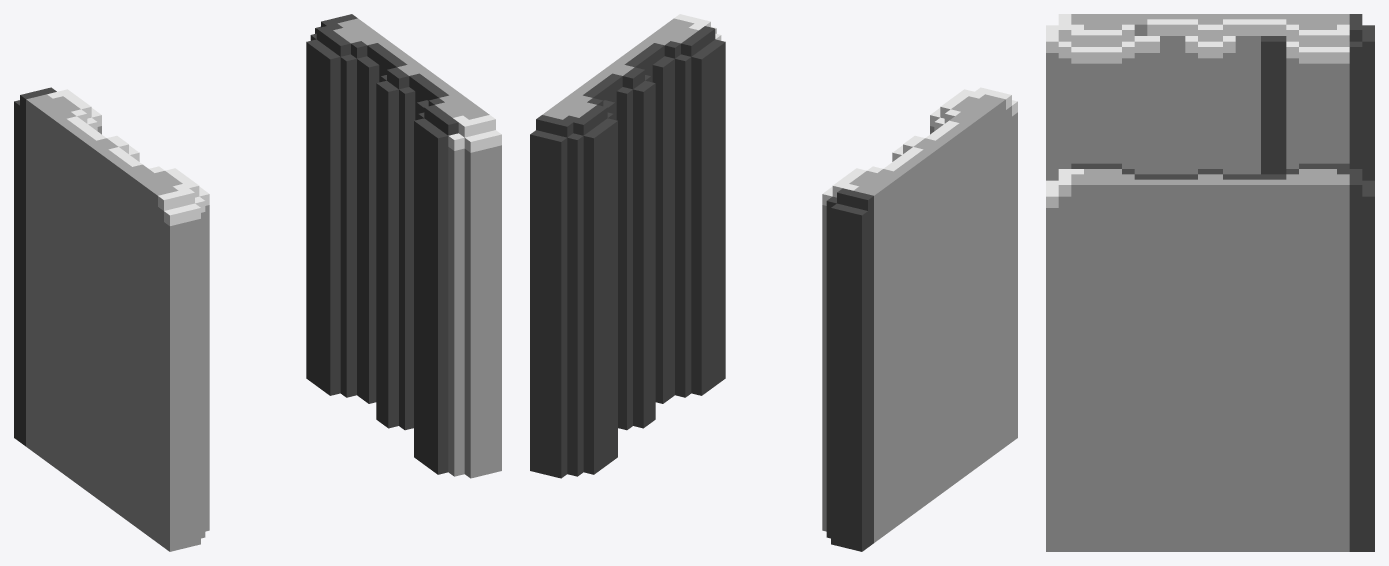
The model's file is GateOutline.obj.
3 renders of one model, left to right at view 1: azimuth 30°, elevation 25°; view 2: azimuth 150°, elevation 25°; view 3: azimuth 270°, elevation 25°, orthographic. The views are drawn at different scales.
Bounding box in the file's own units: 32 × 32 × 26.
Materials: 1 (1 with a texture image).
